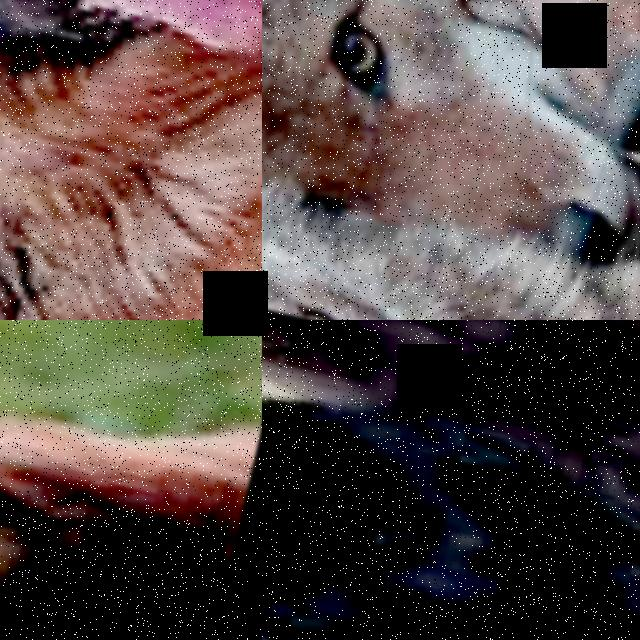dog: (262, 320, 640, 640), (262, 320, 640, 578), (0, 0, 262, 320), (0, 320, 262, 640)
wolf: (262, 0, 640, 320), (390, 0, 640, 320), (262, 128, 640, 320), (262, 0, 640, 191)
